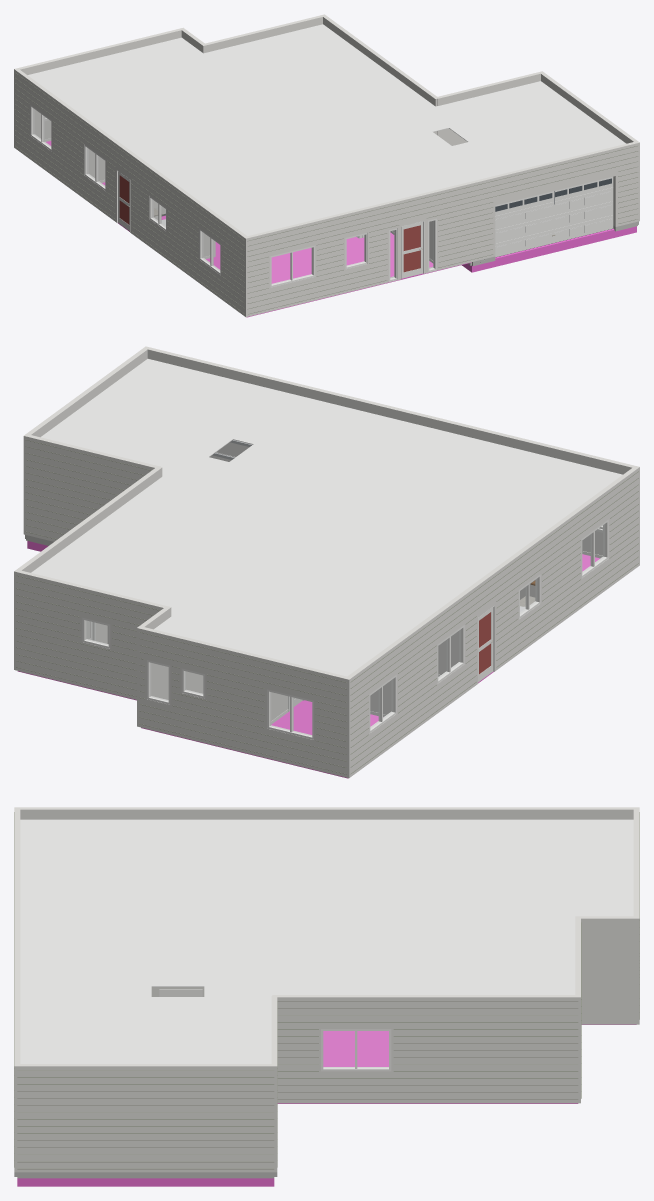
Rendered from slab_house_floor1.glb.
3 renders of one model, top to bottom at view 1: azimuth 30°, elevation 25°; view 2: azimuth 150°, elevation 25°; view 3: azimuth 270°, elevation 25°, orthographic. The views are drawn at different scales.
Parts seen in each view (by area): view 1: ceil_1, col_floor1, trim_siding, door_garage_driveway_s1, door_garage_driveway_s2, door_garage_driveway_s3, win_living_1, door_garage_driveway_s4, room_living, door_foyer_outside, win_living_2, win_living_3 (+6 smaller); view 2: ceil_1, col_floor1, trim_siding, win_bed2_7, win_bed3_5, win_bed2_6, win_living_3, door_kitchen_outside, win_hall_9, win_master_bath_11, room_bed2_e, win_kitchen_4 (+1 smaller); view 3: ceil_1, col_floor1, trim_siding, win_master_10, room_master, curb_garage_ext.
Part boxes in pixels (box(x1,y1,x2,y2)): ceil_1: box(28, 24, 626, 236); col_floor1: box(14, 14, 639, 317); trim_siding: box(15, 72, 637, 314); door_garage_driveway_s1: box(495, 215, 613, 257); door_garage_driveway_s2: box(495, 201, 613, 243); door_garage_driveway_s3: box(495, 187, 613, 229); win_living_1: box(270, 245, 315, 287); door_garage_driveway_s4: box(495, 176, 613, 215); room_living: box(206, 248, 354, 283); door_foyer_outside: box(401, 222, 423, 278); win_living_2: box(345, 232, 367, 269); win_living_3: box(199, 228, 220, 274); ceil_1: box(31, 359, 622, 676); col_floor1: box(14, 346, 639, 778); trim_siding: box(16, 440, 638, 774); win_bed2_7: box(267, 689, 313, 739); win_bed3_5: box(437, 625, 464, 683); win_bed2_6: box(369, 675, 396, 732); win_living_3: box(581, 519, 608, 577); door_kitchen_outside: box(478, 607, 493, 681); win_hall_9: box(147, 660, 170, 704); win_master_bath_11: box(82, 617, 110, 648); room_bed2_e: box(271, 700, 312, 731); win_kitchen_4: box(519, 574, 540, 618); ceil_1: box(20, 819, 633, 1063); col_floor1: box(14, 807, 639, 1186); trim_siding: box(14, 812, 639, 1169); win_master_10: box(321, 1029, 391, 1071); room_master: box(323, 1031, 388, 1066); curb_garage_ext: box(17, 1172, 274, 1178).
Bounding box in the file's own units: 16.03 × 3.5 × 16.33.
45 materials, 6 textured.
